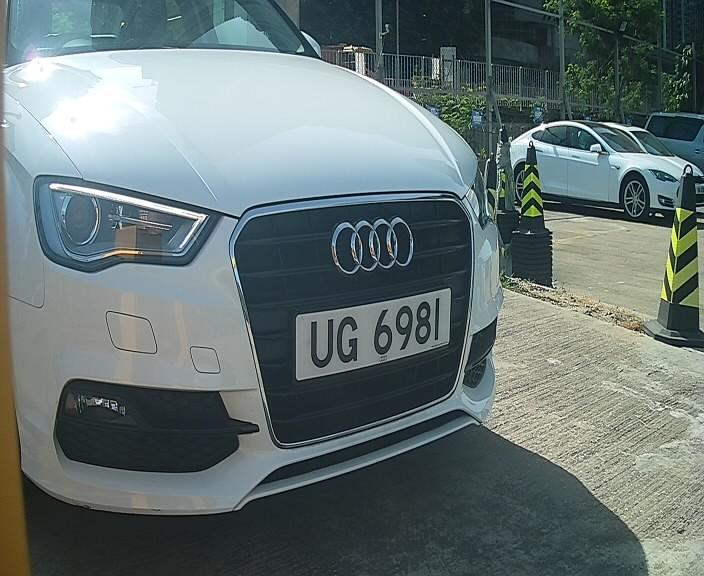privatecar: (1, 21, 529, 512)
